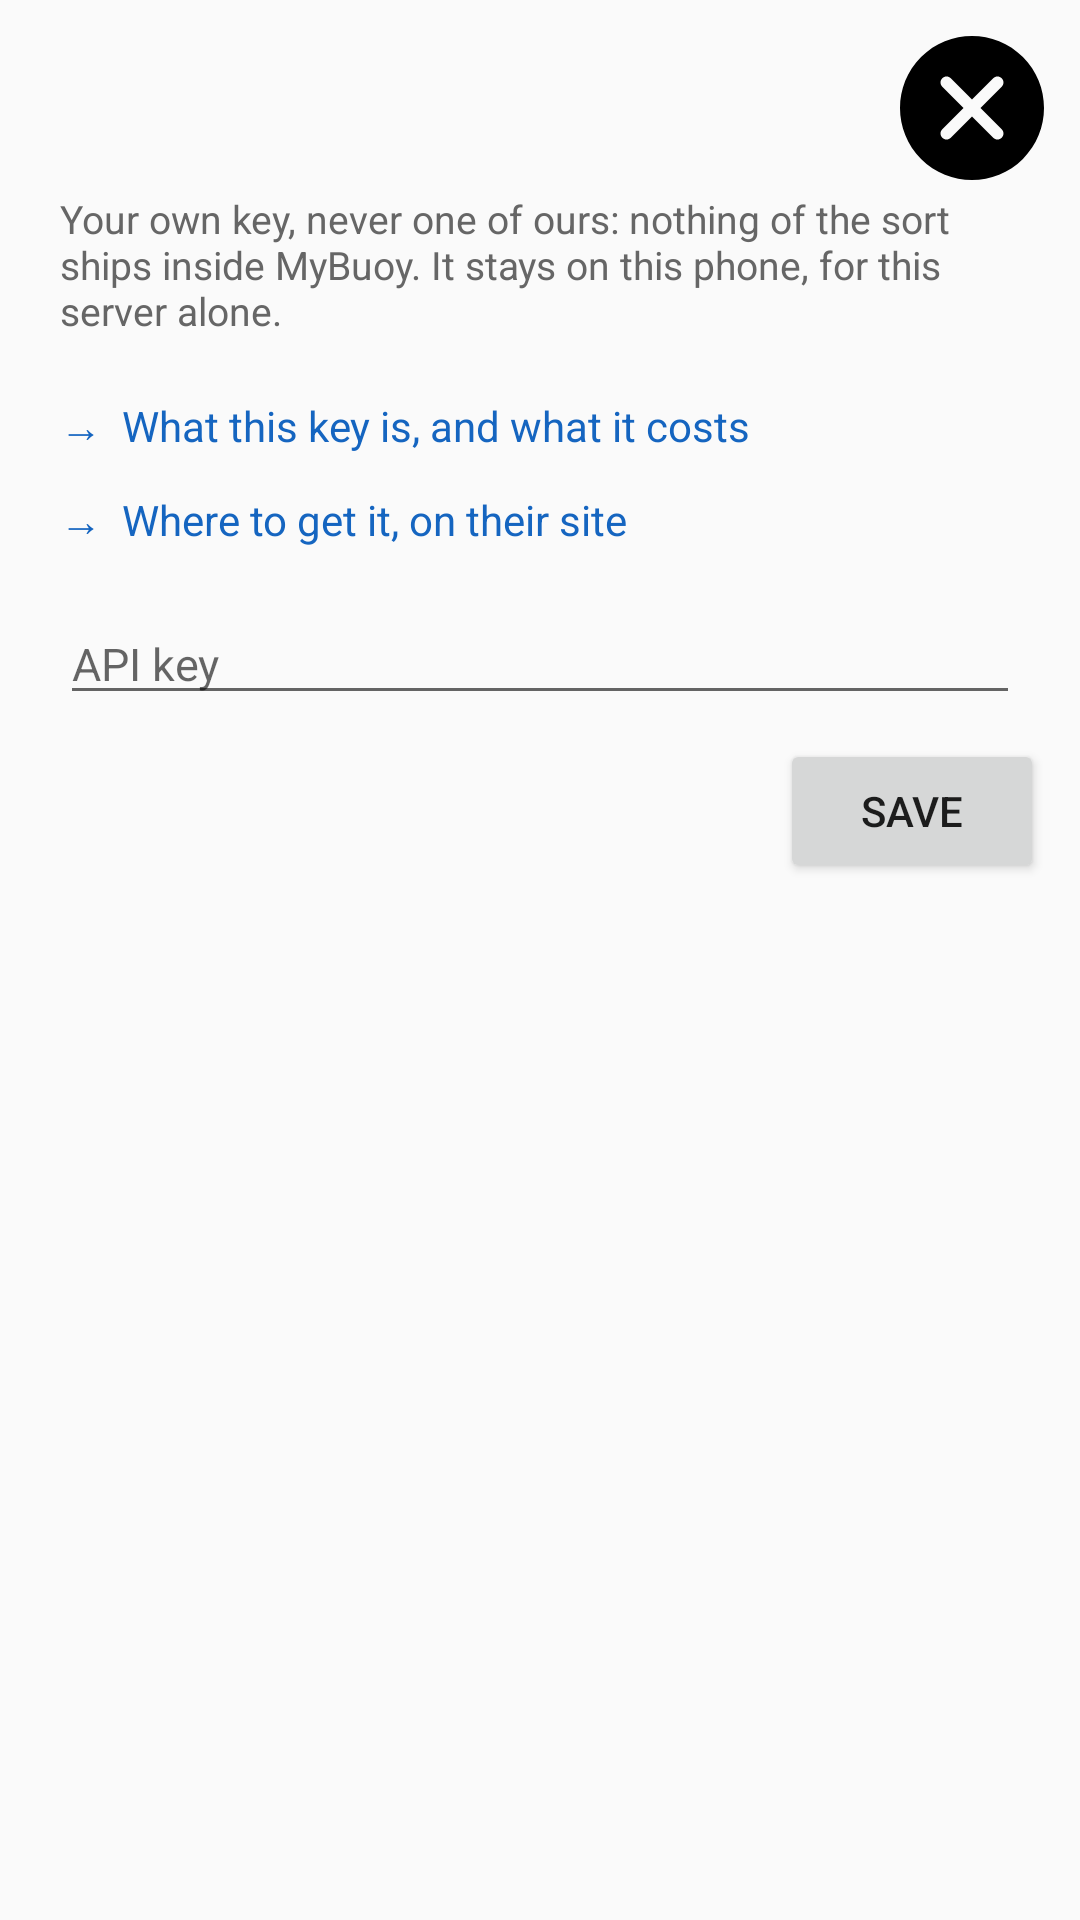

Icons on this 1080×1920 Android screen, each with the point to tap as (x=x, y=y):
Close: (x=972, y=108)
